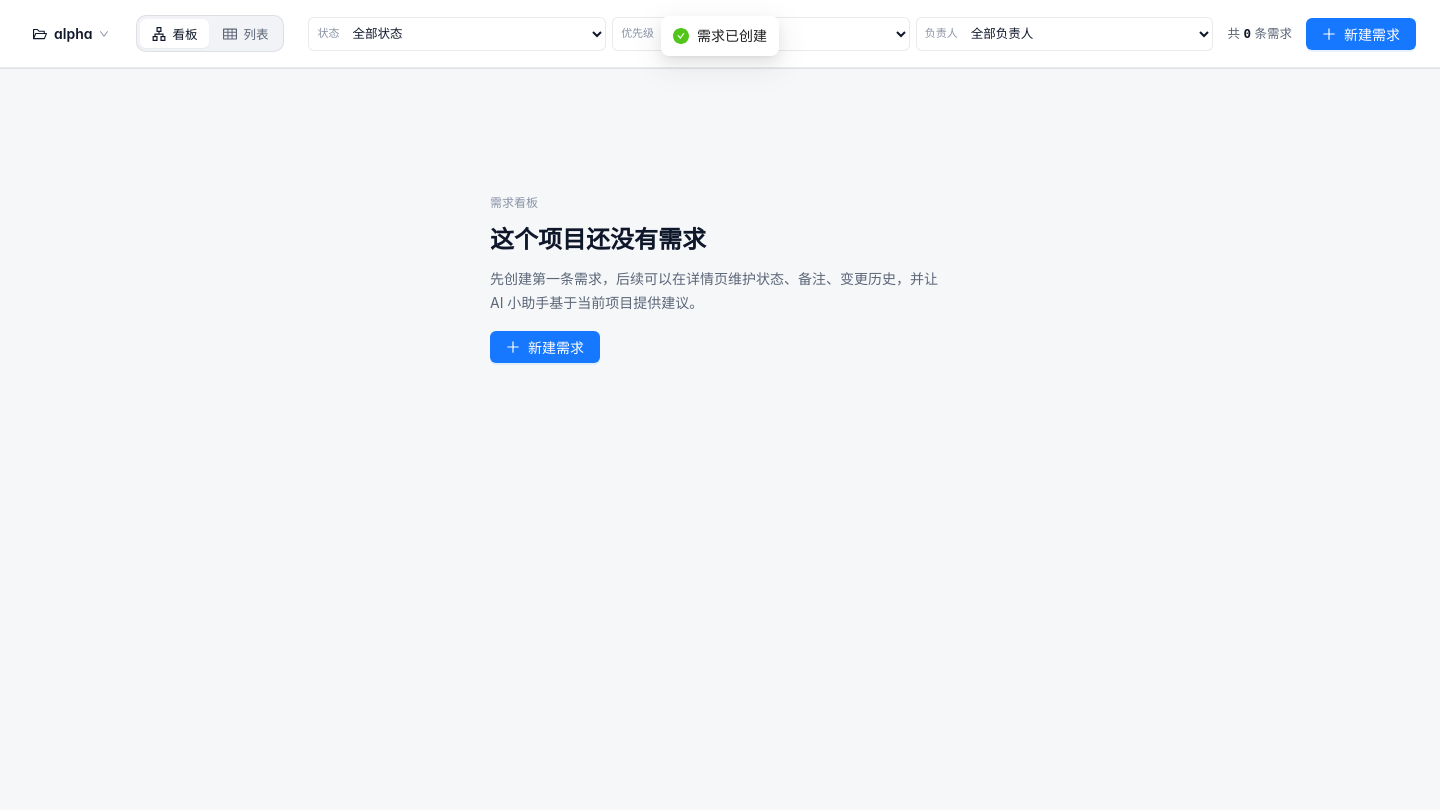
Test: RequirementGrid › 项目没有需求时展示创建第一条需求引导
Expected: the heading "这个项目还没有需求" is shown, left=490, top=225, right=706, bottom=255
Expected: the text "先创建第一条需求，后续可以在详情页维护状态、备注、变更历史，并让 AI 小助手基于当前项目提供建议。" is shown, left=490, top=267, right=950, bottom=315
Click the button "新建需求" below "这个项目还没有需求" at (545, 347), box left=490, top=331, right=600, bottom=363
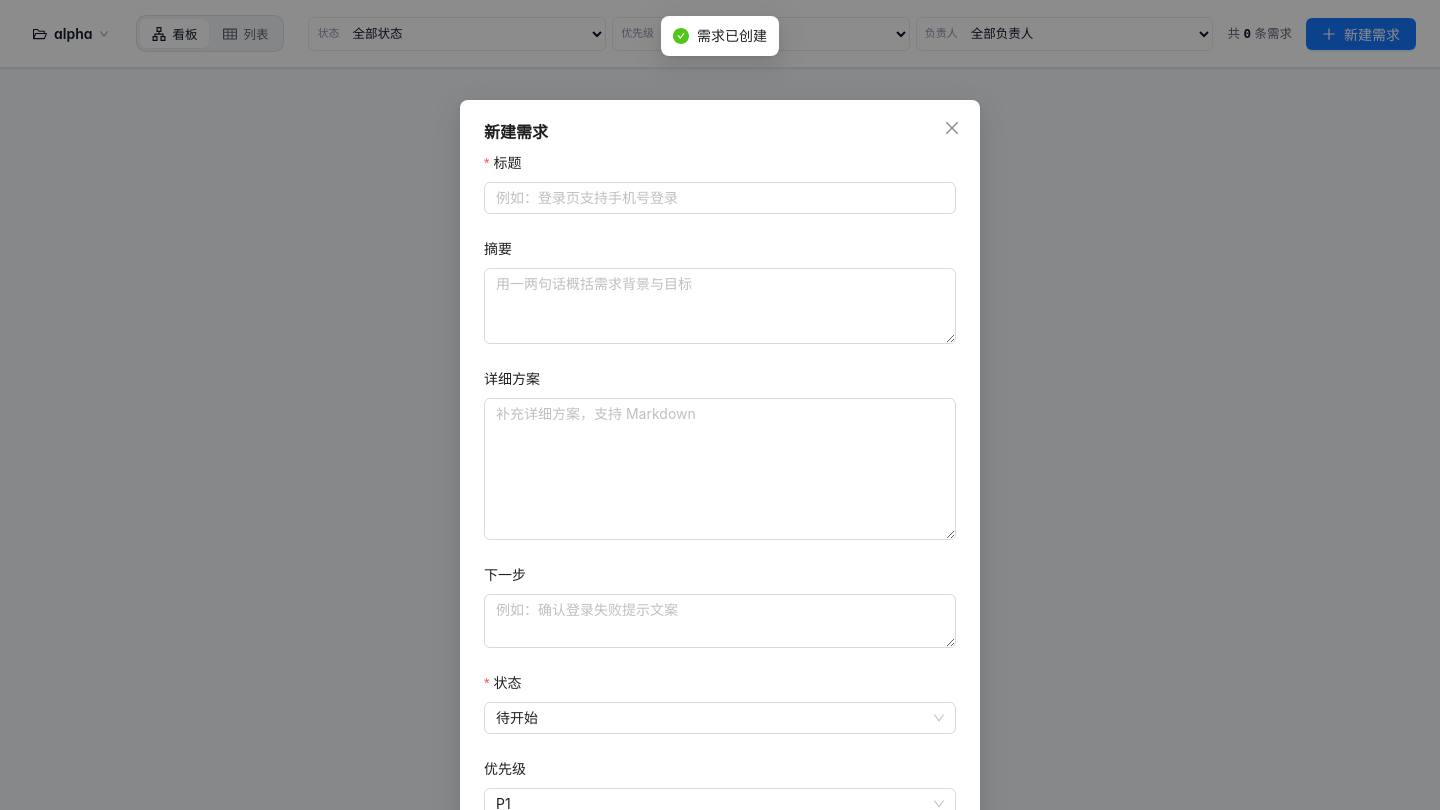
Expected: the dialog "新建需求" is shown, left=460, top=100, right=980, bottom=809
Expected: the field labelled "标题" is shown, left=484, top=182, right=956, bottom=214
